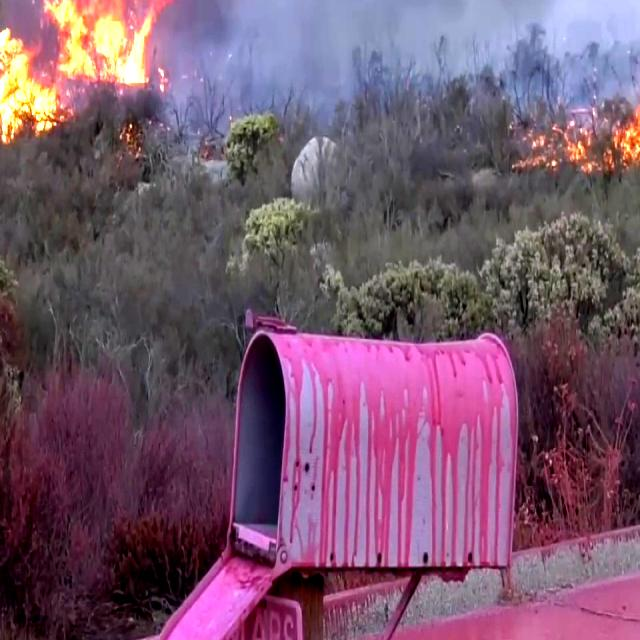fire: (0, 0, 167, 107)
